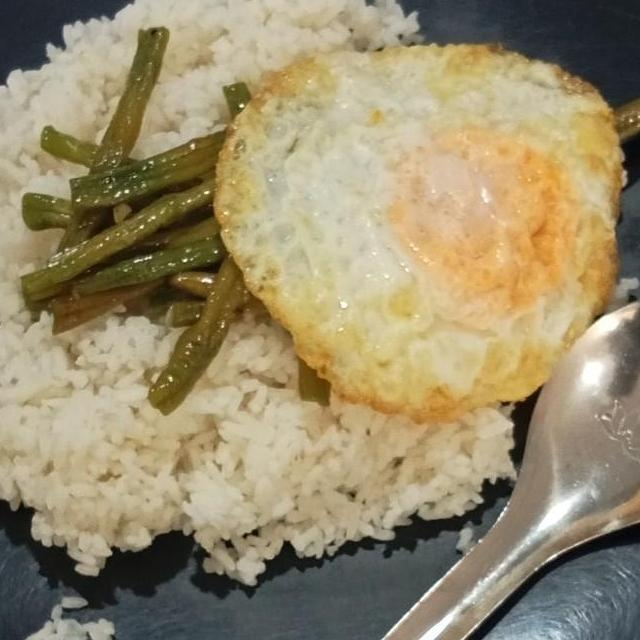com: (0, 163, 322, 593), (0, 0, 427, 184), (279, 396, 530, 569)
trung: (205, 36, 631, 428)
